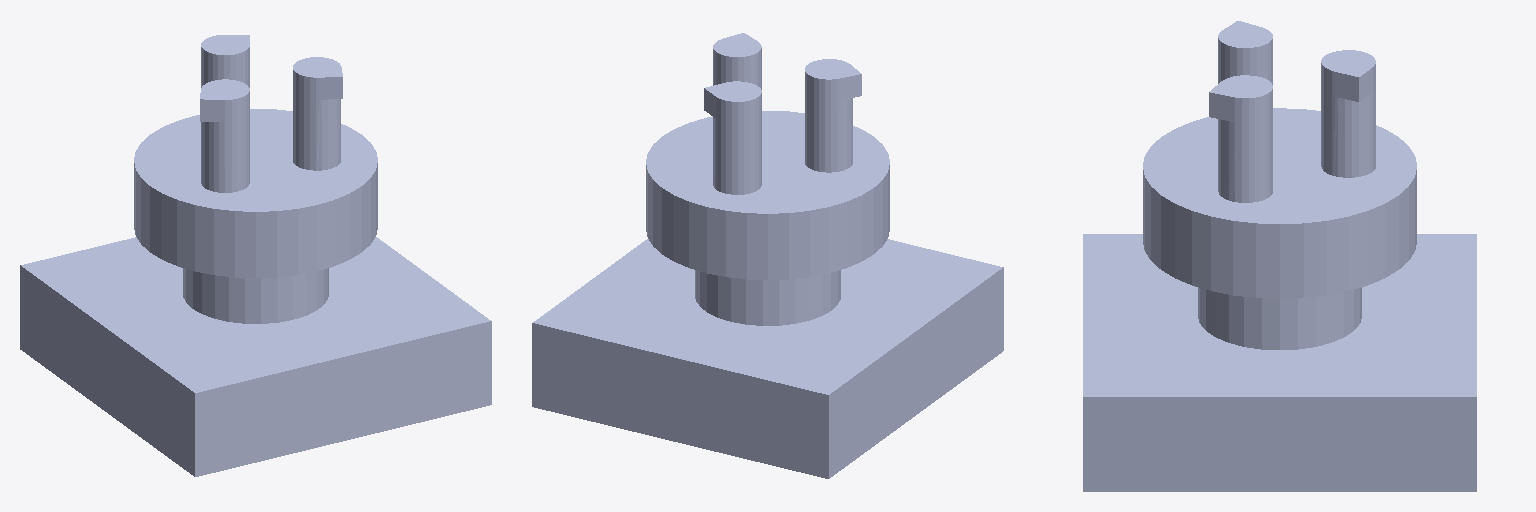
robot.urdf — URDFROS:
<?xml version="1.0" encoding="utf-8"?>
<!-- This URDF was automatically created by SolidWorks to URDF Exporter! Originally created by [author] ([email redacted]) 
     Commit Version: 1.6.0-1-g15f4949  Build Version: 1.6.7594.29634
     For more information, please see http://wiki.ros.org/sw_urdf_exporter -->
<robot
  name="URDFROS">
  <link
    name="LINK1">
    <inertial>
      <origin
        xyz="5.55111512312578E-17 1.38777878078145E-17 0.00913899464565848"
        rpy="0 0 0" />
      <mass
        value="0.0881112294736471" />
      <inertia
        ixx="4.28576506071502E-05"
        ixy="0"
        ixz="-2.63572309757595E-22"
        iyy="4.11321029955712E-05"
        iyz="4.8136187875801E-23"
        izz="7.86901550473029E-05" />
    </inertial>
    <visual>
      <origin
        xyz="0 0 0"
        rpy="0 0 0" />
      <geometry>
        <mesh
          filename="package://URDFROS/meshes/LINK1.STL" />
      </geometry>
      <material
        name="">
        <color
          rgba="0.792156862745098 0.819607843137255 0.933333333333333 1" />
      </material>
    </visual>
    <collision>
      <origin
        xyz="0 0 0"
        rpy="0 0 0" />
      <geometry>
        <mesh
          filename="package://URDFROS/meshes/LINK1.STL" />
      </geometry>
    </collision>
  </link>
  <link
    name="LINK2">
    <inertial>
      <origin
        xyz="-5.55111512312578E-17 -2.77555756156289E-17 -0.0154947643979058"
        rpy="0 0 0" />
      <mass
        value="0.0450033147626738" />
      <inertia
        ixx="1.10484008979201E-05"
        ixy="6.35274710440725E-22"
        ixz="3.02297097284577E-22"
        iyy="1.10484008979201E-05"
        iyz="-5.41853137257625E-22"
        izz="1.08340767902157E-05" />
    </inertial>
    <visual>
      <origin
        xyz="0 0 0"
        rpy="0 0 0" />
      <geometry>
        <mesh
          filename="package://URDFROS/meshes/LINK2.STL" />
      </geometry>
      <material
        name="">
        <color
          rgba="0.792156862745098 0.819607843137255 0.933333333333333 1" />
      </material>
    </visual>
    <collision>
      <origin
        xyz="0 0 0"
        rpy="0 0 0" />
      <geometry>
        <mesh
          filename="package://URDFROS/meshes/LINK2.STL" />
      </geometry>
    </collision>
  </link>
  <joint
    name="JOINT1"
    type="continuous">
    <origin
      xyz="0 0 0.049"
      rpy="0 0 0" />
    <parent
      link="LINK1" />
    <child
      link="LINK2" />
    <axis
      xyz="0 0 1" />
  </joint>
  <link
    name="LINK3-1">
    <inertial>
      <origin
        xyz="5.9466429235655E-05 1.68887434644355E-05 0.0061407102790253"
        rpy="0 0 0" />
      <mass
        value="0.00238301971976767" />
      <inertia
        ixx="1.9573602893199E-07"
        ixy="-2.02924677217103E-10"
        ixz="-1.75143091145477E-09"
        iyy="1.96392909144847E-07"
        iyz="-4.97414553714287E-10"
        izz="3.02994731542616E-08" />
    </inertial>
    <visual>
      <origin
        xyz="0 0 0"
        rpy="0 0 0" />
      <geometry>
        <mesh
          filename="package://URDFROS/meshes/LINK3-1.STL" />
      </geometry>
      <material
        name="">
        <color
          rgba="0.792156862745098 0.819607843137255 0.933333333333333 1" />
      </material>
    </visual>
    <collision>
      <origin
        xyz="0 0 0"
        rpy="0 0 0" />
      <geometry>
        <mesh
          filename="package://URDFROS/meshes/LINK3-1.STL" />
      </geometry>
    </collision>
  </link>
  <joint
    name="JOINT-21"
    type="continuous">
    <origin
      xyz="0 0.0125 0"
      rpy="0 0 0" />
    <parent
      link="LINK2" />
    <child
      link="LINK3-1" />
    <axis
      xyz="0 0 1" />
  </joint>
  <link
    name="LINK3-3">
    <inertial>
      <origin
        xyz="2.01072091755572E-05 -5.84567019340787E-05 0.00614071027902541"
        rpy="0 0 0" />
      <mass
        value="0.00238301971976767" />
      <inertia
        ixx="1.9636885063274E-07"
        ixy="2.37493522381655E-10"
        ixz="-5.92206193408728E-10"
        iyy="1.95760087444097E-07"
        iyz="1.72169198764894E-09"
        izz="3.02994731542616E-08" />
    </inertial>
    <visual>
      <origin
        xyz="0 0 0"
        rpy="0 0 0" />
      <geometry>
        <mesh
          filename="package://URDFROS/meshes/LINK3-3.STL" />
      </geometry>
      <material
        name="">
        <color
          rgba="0.792156862745098 0.819607843137255 0.933333333333333 1" />
      </material>
    </visual>
    <collision>
      <origin
        xyz="0 0 0"
        rpy="0 0 0" />
      <geometry>
        <mesh
          filename="package://URDFROS/meshes/LINK3-3.STL" />
      </geometry>
    </collision>
  </link>
  <joint
    name="JOINT-22"
    type="continuous">
    <origin
      xyz="0.010825 -0.00625 0"
      rpy="0 0 0" />
    <parent
      link="LINK2" />
    <child
      link="LINK3-3" />
    <axis
      xyz="0 0 1" />
  </joint>
  <link
    name="LINK3-2">
    <inertial>
      <origin
        xyz="-6.06158776054744E-05 -1.21326519760823E-05 0.0061407102790253"
        rpy="0 0 0" />
      <mass
        value="0.00238301971976767" />
      <inertia
        ixx="1.95708139854141E-07"
        ixy="-1.48596233353931E-10"
        ixz="1.78528496039945E-09"
        iyy="1.96420798222696E-07"
        iyz="3.57336096717783E-10"
        izz="3.02994731542616E-08" />
    </inertial>
    <visual>
      <origin
        xyz="0 0 0"
        rpy="0 0 0" />
      <geometry>
        <mesh
          filename="package://URDFROS/meshes/LINK3-2.STL" />
      </geometry>
      <material
        name="">
        <color
          rgba="0.792156862745098 0.819607843137255 0.933333333333333 1" />
      </material>
    </visual>
    <collision>
      <origin
        xyz="0 0 0"
        rpy="0 0 0" />
      <geometry>
        <mesh
          filename="package://URDFROS/meshes/LINK3-2.STL" />
      </geometry>
    </collision>
  </link>
  <joint
    name="JOINT-23"
    type="continuous">
    <origin
      xyz="-0.010825 -0.00625 0"
      rpy="0 0 0" />
    <parent
      link="LINK2" />
    <child
      link="LINK3-2" />
    <axis
      xyz="0 0 1" />
  </joint>
</robot>

--- Render facts (derived) ---
The picture shows the robot from 3 angles, left to right: view 1: azimuth 30°, elevation 25°; view 2: azimuth 150°, elevation 25°; view 3: azimuth 270°, elevation 25°; orthographic projection.
Robot: URDFROS — 5 links, 4 joints (4 continuous); root link LINK1; default pose: all joints at 0.
Visible links, largest first — view 1: LINK1, LINK2, LINK3-2, LINK3-3, LINK3-1; view 2: LINK1, LINK2, LINK3-1, LINK3-2, LINK3-3; view 3: LINK1, LINK2, LINK3-3, LINK3-1, LINK3-2.
Link boxes in pixels (x1,y1,x2,y2): LINK1: (20,237,491,476); LINK2: (134,109,377,323); LINK3-2: (200,79,249,192); LINK3-3: (293,57,342,170); LINK3-1: (201,35,249,87); LINK1: (532,239,1003,478); LINK2: (646,111,889,325); LINK3-1: (704,81,761,194); LINK3-2: (805,59,861,172); LINK3-3: (713,33,761,89); LINK1: (1083,234,1476,491); LINK2: (1143,108,1416,349); LINK3-3: (1209,75,1272,202); LINK3-1: (1321,50,1375,177); LINK3-2: (1218,21,1272,84).
Bounding box of the posed robot: 0.07 × 0.0716 × 0.07 m (x, y, z).
5 mesh visuals loaded from 5 distinct referenced files (5 binary STL).